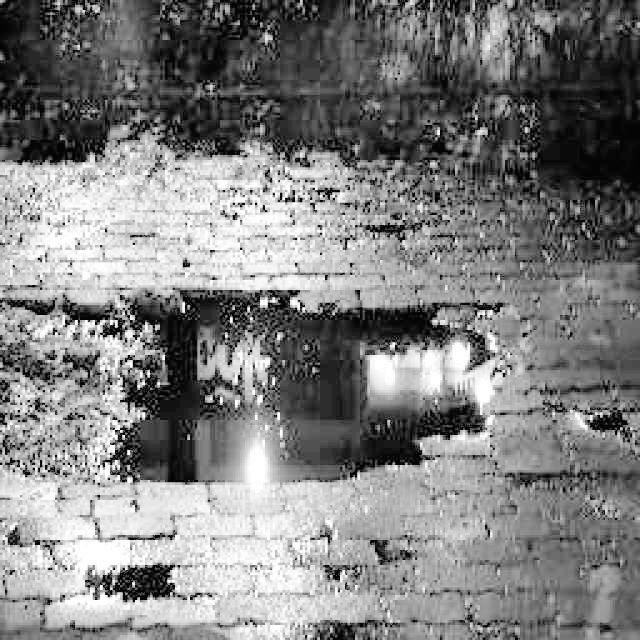Pothole: (5, 282, 527, 493)
